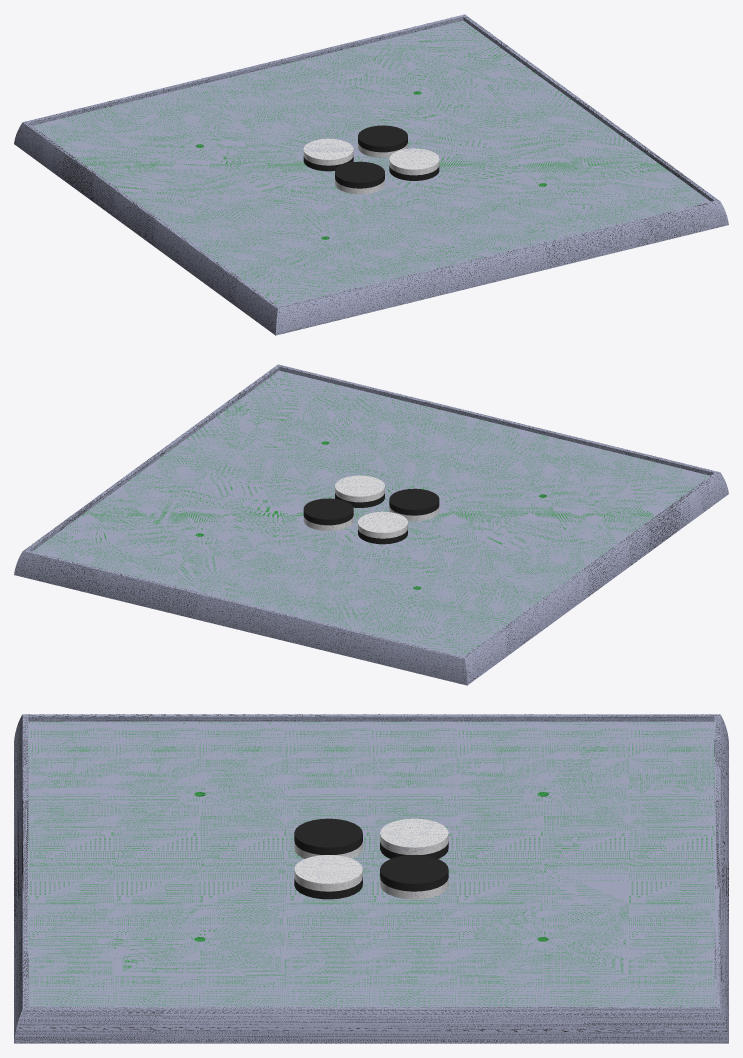
Rendered from othello.fbx.
The picture shows the model from 3 angles, top to bottom: view 1: azimuth 30°, elevation 25°; view 2: azimuth 150°, elevation 25°; view 3: azimuth 270°, elevation 25°; orthographic projection. The views are drawn at different scales.
Visible parts, largest first — view 1: Model, Component_1_3, Component_1_2, Component_1_4, Component_1_1; view 2: Model, Component_1_1, Component_1_4, Component_1_2, Component_1_3; view 3: Model, Component_1_1, Component_1_3, Component_1_2, Component_1_4.
Boxes of the visible parts, x1,y1,x2,y2 form: Model: [14, 14, 728, 335]; Component_1_3: [389, 148, 439, 180]; Component_1_2: [335, 161, 384, 194]; Component_1_4: [303, 138, 353, 171]; Component_1_1: [358, 125, 407, 157]; Model: [14, 364, 728, 685]; Component_1_1: [303, 498, 353, 530]; Component_1_4: [358, 511, 407, 544]; Component_1_2: [389, 488, 439, 521]; Component_1_3: [335, 475, 384, 507]; Model: [14, 714, 728, 1043]; Component_1_1: [380, 855, 448, 899]; Component_1_3: [294, 855, 362, 899]; Component_1_2: [294, 818, 362, 858]; Component_1_4: [380, 818, 448, 858].
Bounding box in the file's own units: 250 × 16 × 250.
